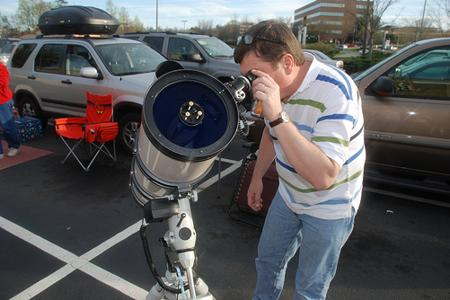person: (233, 22, 366, 299)
